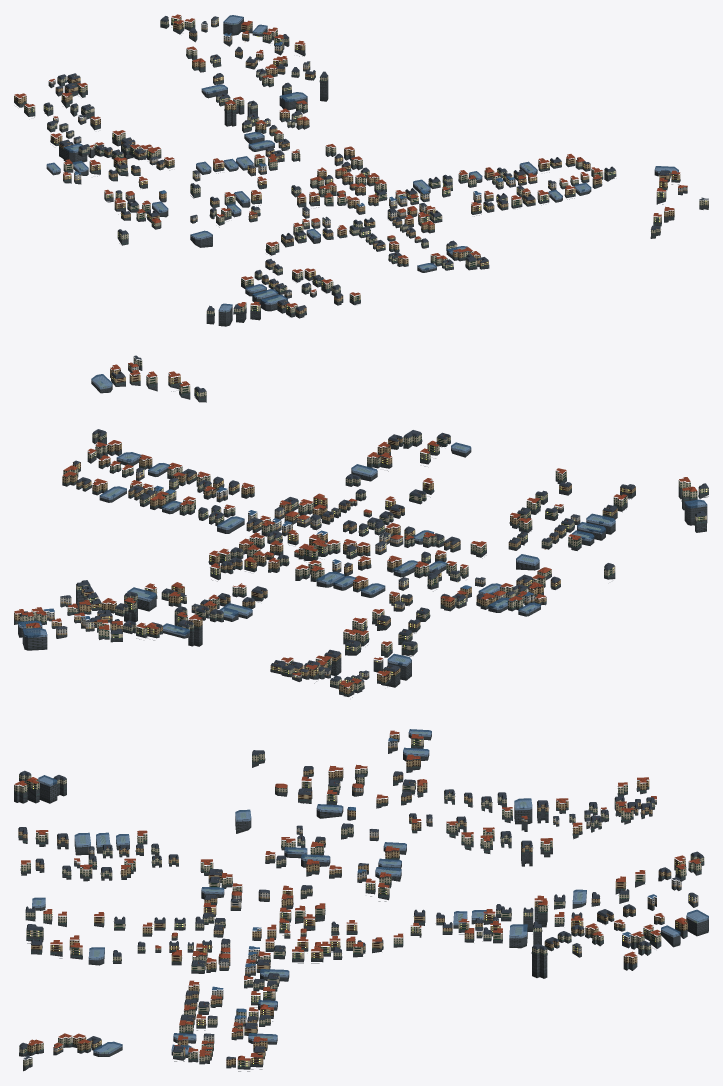
File: osm_buildings_T_E01_S02_Q2.glb
3 views of the same model, one above another, from view 1: azimuth 30°, elevation 25°; view 2: azimuth 150°, elevation 25°; view 3: azimuth 270°, elevation 25° (orthographic). The views are drawn at different scales.
Visible parts, largest first — view 1: OSM_T_E01_S02_Q2_foundation, OSM_T_E01_S02_Q2_wall_cream_stucco, OSM_T_E01_S02_Q2_wall_french_ochre, OSM_T_E01_S02_Q2_roof_terracotta, OSM_T_E01_S02_Q2_greenhouse_blend, OSM_T_E01_S02_Q2_roof_mansard_slate, OSM_T_E01_S02_Q2_roof_mansard_deck, OSM_T_E01_S02_Q2_roof_mint_metal, OSM_T_E01_S02_Q2_balcony_railing, OSM_T_E01_S02_Q2_wall_warm_white, OSM_T_E01_S02_Q2_trim_cornice, OSM_T_E01_S02_Q2_window_emissive_warm (+1 smaller); view 2: OSM_T_E01_S02_Q2_foundation, OSM_T_E01_S02_Q2_wall_cream_stucco, OSM_T_E01_S02_Q2_wall_french_ochre, OSM_T_E01_S02_Q2_roof_terracotta, OSM_T_E01_S02_Q2_greenhouse_blend, OSM_T_E01_S02_Q2_roof_mansard_slate, OSM_T_E01_S02_Q2_roof_mansard_deck, OSM_T_E01_S02_Q2_roof_mint_metal, OSM_T_E01_S02_Q2_trim_cornice, OSM_T_E01_S02_Q2_balcony_railing, OSM_T_E01_S02_Q2_wall_warm_white, OSM_T_E01_S02_Q2_window_emissive_warm (+1 smaller); view 3: OSM_T_E01_S02_Q2_foundation, OSM_T_E01_S02_Q2_wall_cream_stucco, OSM_T_E01_S02_Q2_wall_french_ochre, OSM_T_E01_S02_Q2_roof_terracotta, OSM_T_E01_S02_Q2_greenhouse_blend, OSM_T_E01_S02_Q2_roof_mansard_slate, OSM_T_E01_S02_Q2_roof_mansard_deck, OSM_T_E01_S02_Q2_trim_cornice, OSM_T_E01_S02_Q2_roof_mint_metal, OSM_T_E01_S02_Q2_wall_warm_white, OSM_T_E01_S02_Q2_balcony_railing, OSM_T_E01_S02_Q2_window_emissive_warm (+1 smaller).
Boxes of the visible parts, <box> form: OSM_T_E01_S02_Q2_foundation: <box>14,19,708,326</box>; OSM_T_E01_S02_Q2_wall_cream_stucco: <box>24,16,708,314</box>; OSM_T_E01_S02_Q2_wall_french_ochre: <box>14,22,680,314</box>; OSM_T_E01_S02_Q2_roof_terracotta: <box>14,14,687,307</box>; OSM_T_E01_S02_Q2_greenhouse_blend: <box>46,15,678,312</box>; OSM_T_E01_S02_Q2_roof_mansard_slate: <box>44,16,708,311</box>; OSM_T_E01_S02_Q2_roof_mansard_deck: <box>45,16,669,311</box>; OSM_T_E01_S02_Q2_roof_mint_metal: <box>15,23,677,314</box>; OSM_T_E01_S02_Q2_balcony_railing: <box>14,19,678,314</box>; OSM_T_E01_S02_Q2_wall_warm_white: <box>48,22,687,295</box>; OSM_T_E01_S02_Q2_trim_cornice: <box>26,20,700,315</box>; OSM_T_E01_S02_Q2_window_emissive_warm: <box>15,19,706,310</box>; OSM_T_E01_S02_Q2_foundation: <box>14,363,708,696</box>; OSM_T_E01_S02_Q2_wall_cream_stucco: <box>19,357,708,690</box>; OSM_T_E01_S02_Q2_wall_french_ochre: <box>14,366,635,694</box>; OSM_T_E01_S02_Q2_roof_terracotta: <box>14,362,696,687</box>; OSM_T_E01_S02_Q2_greenhouse_blend: <box>18,374,707,666</box>; OSM_T_E01_S02_Q2_roof_mansard_slate: <box>20,355,708,683</box>; OSM_T_E01_S02_Q2_roof_mansard_deck: <box>19,371,706,680</box>; OSM_T_E01_S02_Q2_roof_mint_metal: <box>14,375,707,694</box>; OSM_T_E01_S02_Q2_trim_cornice: <box>18,357,708,697</box>; OSM_T_E01_S02_Q2_balcony_railing: <box>23,366,707,691</box>; OSM_T_E01_S02_Q2_wall_warm_white: <box>60,363,580,678</box>; OSM_T_E01_S02_Q2_window_emissive_warm: <box>79,365,706,688</box>; OSM_T_E01_S02_Q2_foundation: <box>14,734,708,1071</box>; OSM_T_E01_S02_Q2_wall_cream_stucco: <box>14,735,704,1066</box>; OSM_T_E01_S02_Q2_wall_french_ochre: <box>18,734,687,1065</box>; OSM_T_E01_S02_Q2_roof_terracotta: <box>14,730,700,1060</box>; OSM_T_E01_S02_Q2_greenhouse_blend: <box>32,729,708,1054</box>; OSM_T_E01_S02_Q2_roof_mansard_slate: <box>18,751,703,1059</box>; OSM_T_E01_S02_Q2_roof_mansard_deck: <box>19,733,707,1053</box>; OSM_T_E01_S02_Q2_trim_cornice: <box>17,734,703,1071</box>; OSM_T_E01_S02_Q2_roof_mint_metal: <box>14,740,703,1066</box>; OSM_T_E01_S02_Q2_wall_warm_white: <box>53,786,681,1052</box>; OSM_T_E01_S02_Q2_balcony_railing: <box>16,741,695,1064</box>; OSM_T_E01_S02_Q2_window_emissive_warm: <box>33,732,698,1066</box>.
Size of the model in its own units: 993 by 133 by 997.
Materials: 16 (16 with a texture image).
